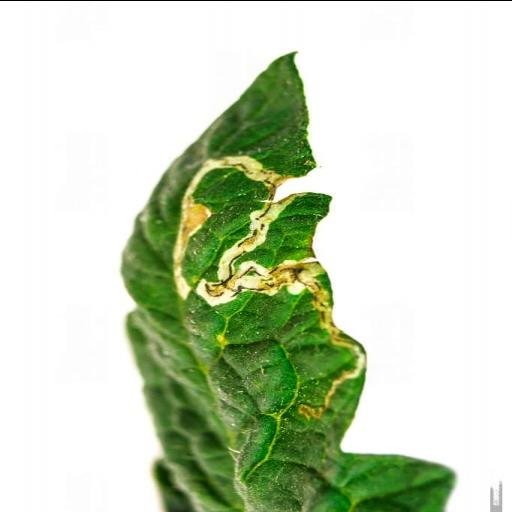disease_tomato: (118, 50, 455, 512)
